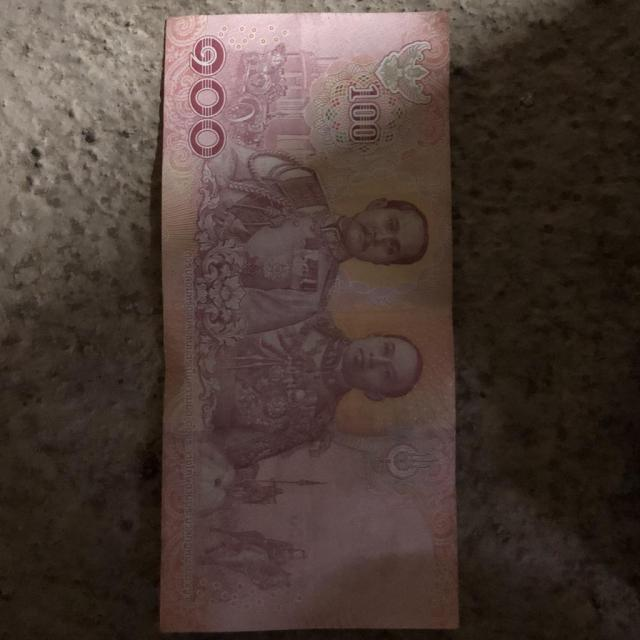THAI100: (154, 11, 461, 635)
